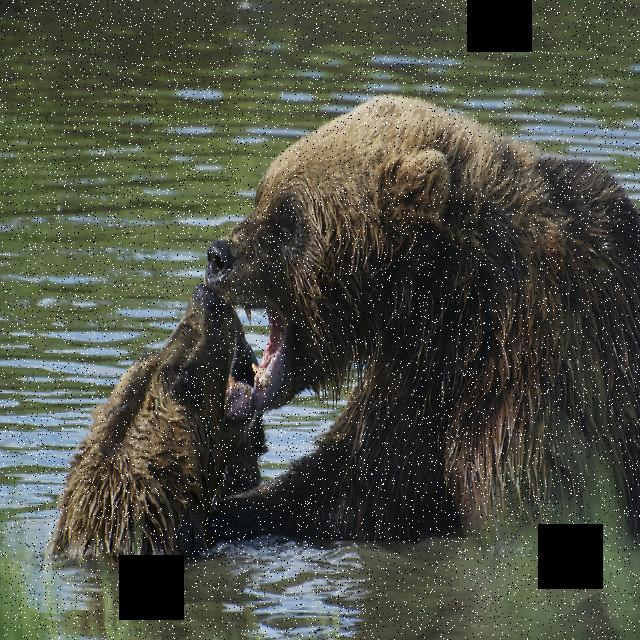Bear: (201, 88, 640, 550), (45, 275, 275, 573)
